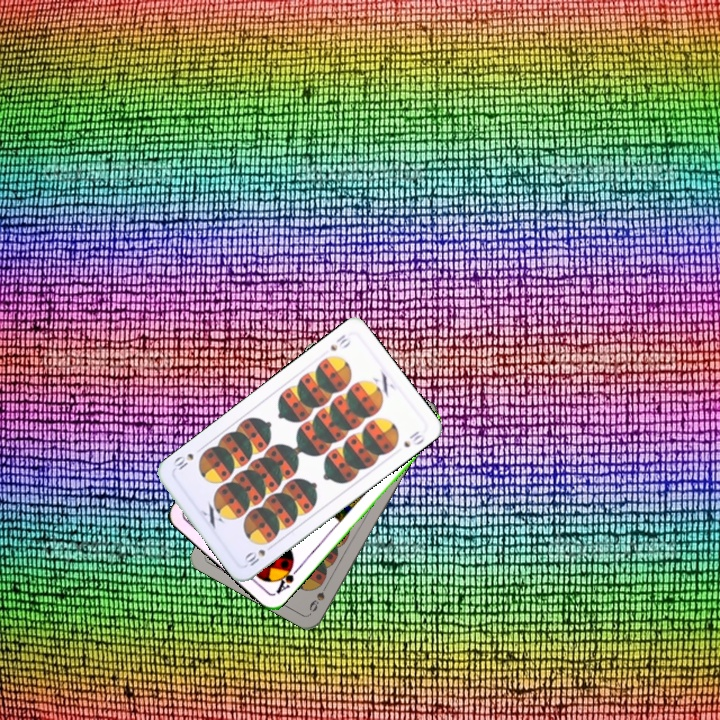S10: (240, 540, 277, 569), (326, 330, 353, 354)
S9: (305, 578, 331, 614)
SA: (271, 559, 303, 597)
